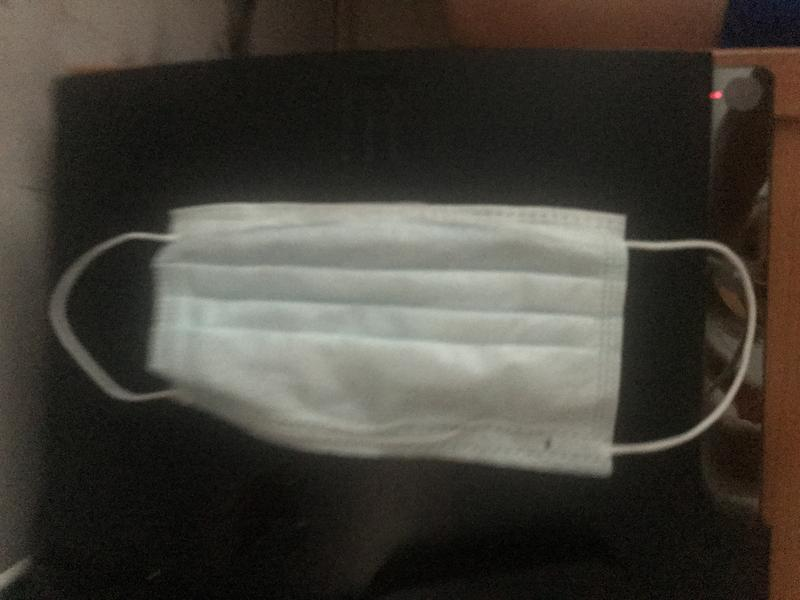medical_mask: (49, 203, 758, 475)
